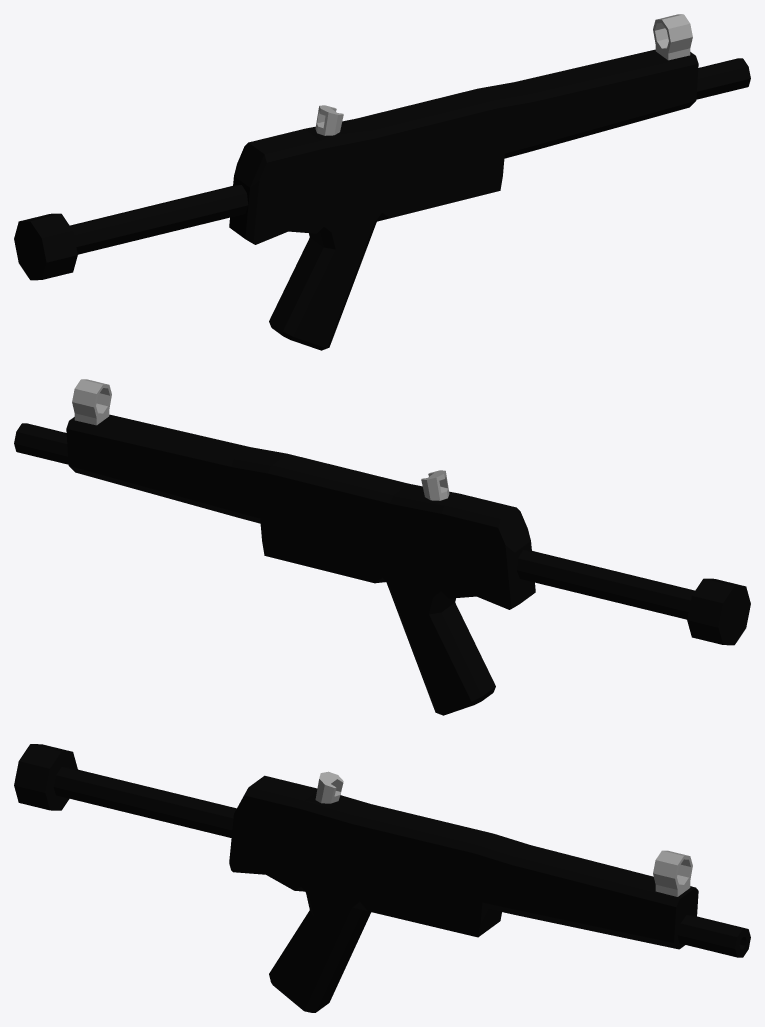
File: MP5 SMG.obj
The picture shows the model from 3 angles, top to bottom: view 1: azimuth 30°, elevation 25°; view 2: azimuth 150°, elevation 25°; view 3: azimuth 330°, elevation 25°; orthographic projection.
Visible parts, largest first — view 1: MP5_Cube; view 2: MP5_Cube; view 3: MP5_Cube.
Boxes of the visible parts, left/top/right/bottom form: MP5_Cube: left=14, top=14, right=750, bottom=350; MP5_Cube: left=14, top=379, right=750, bottom=715; MP5_Cube: left=14, top=744, right=750, bottom=1012.
Size of the model in its own units: 4.67 by 1.51 by 0.3693.
